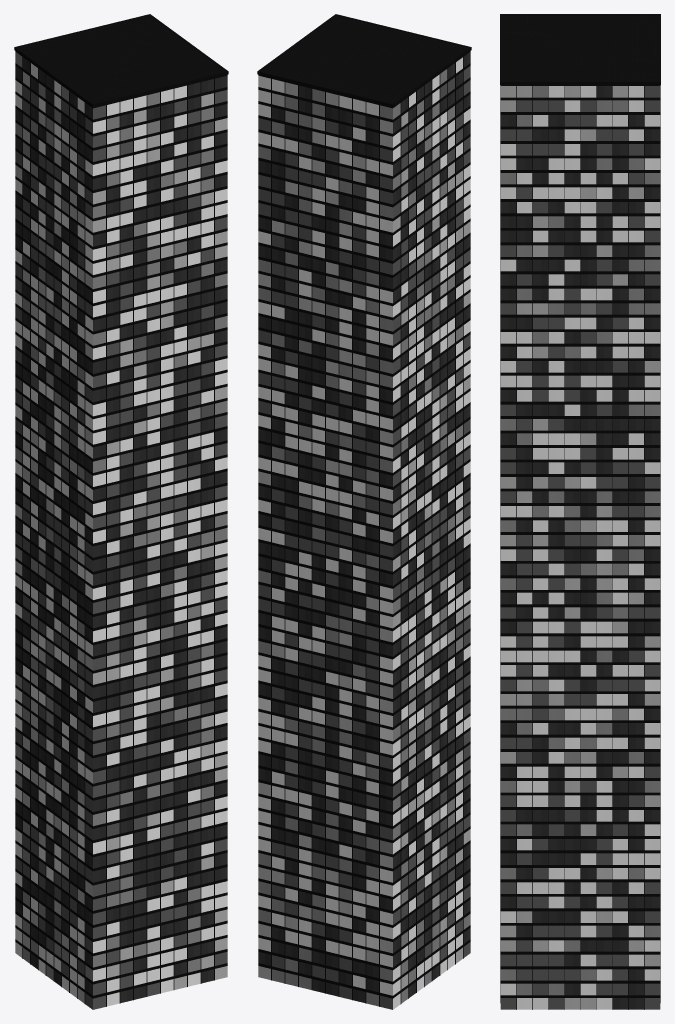
File: SM_Building_01.fbx
The picture shows the model from 3 angles, left to right: view 1: azimuth 30°, elevation 25°; view 2: azimuth 150°, elevation 25°; view 3: azimuth 270°, elevation 25°; orthographic projection. The views are drawn at different scales.
Parts seen in each view (by area): view 1: SM_Building_01; view 2: SM_Building_01; view 3: SM_Building_01.
Part boxes in pixels (<box>): SM_Building_01: <box>14,14,228,1009</box>; SM_Building_01: <box>257,14,471,1009</box>; SM_Building_01: <box>500,14,660,1009</box>.
Size of the model in its own units: 5035 by 32050 by 5035.
